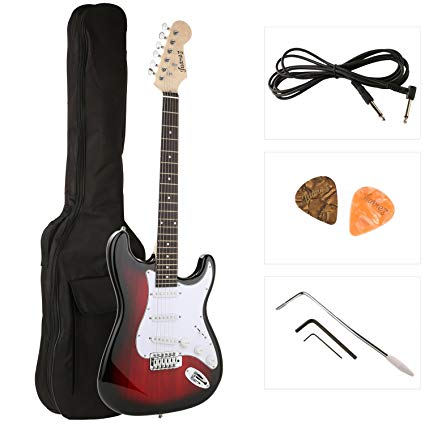ElectricGuitar: (95, 22, 229, 418)
